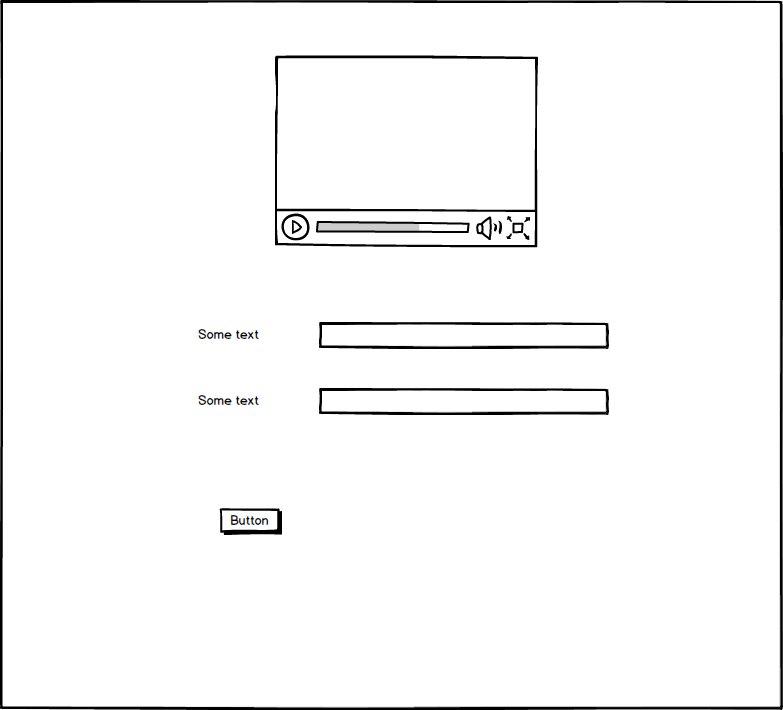button: (192, 567, 272, 599)
input: (313, 381, 615, 419), (317, 317, 615, 353)
label: (193, 386, 265, 414), (194, 324, 264, 345)
navlink: (330, 574, 376, 594)
video: (267, 48, 541, 253)
